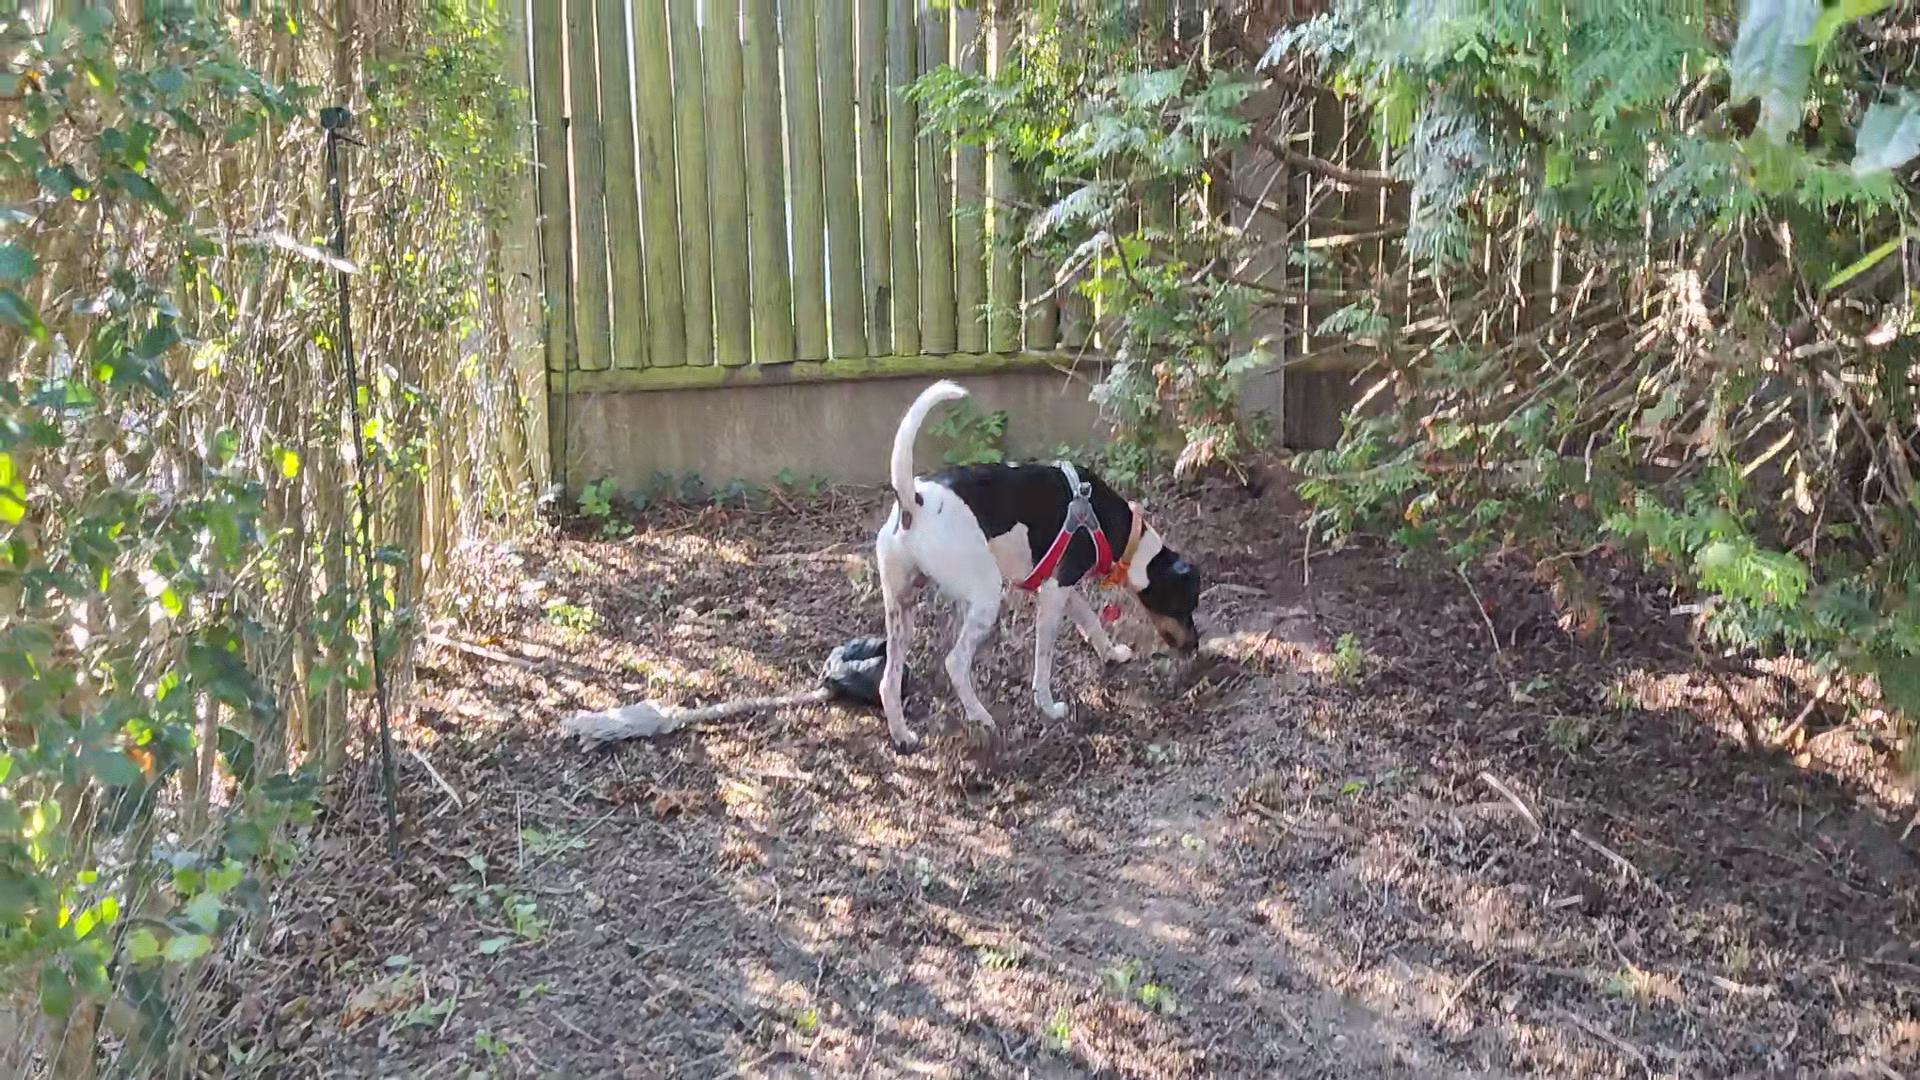Dog: (841, 372, 1218, 766)
